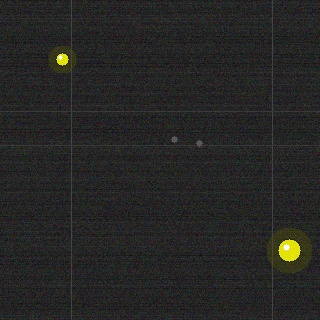yellow_warning: (276, 237, 302, 263), (54, 51, 70, 67)
